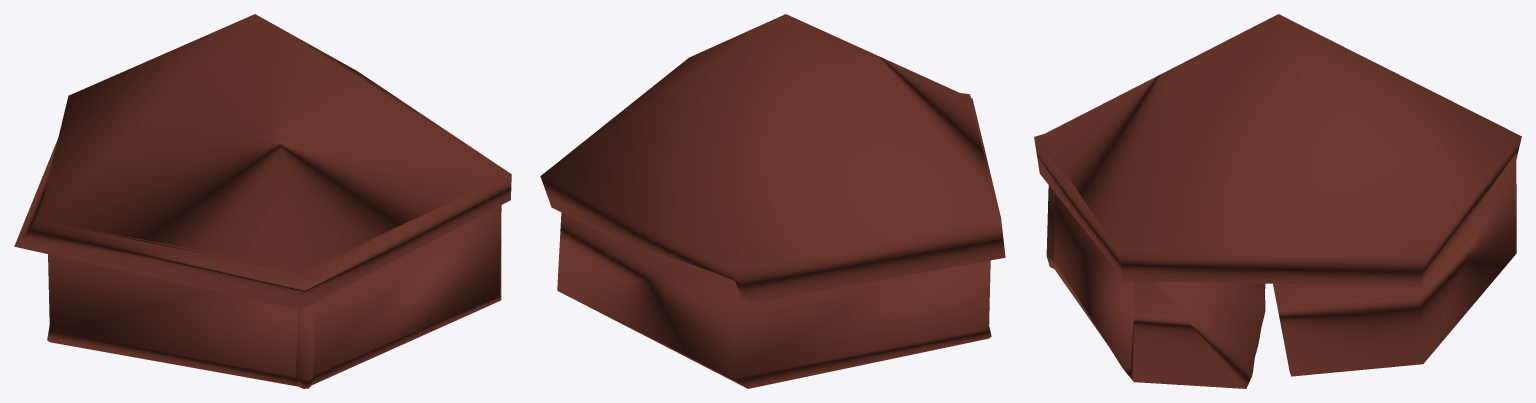
The model's file is Tent.fbx.
3 renders of one model, left to right at view 1: azimuth 30°, elevation 25°; view 2: azimuth 150°, elevation 25°; view 3: azimuth 270°, elevation 25°, orthographic. The views are drawn at different scales.
Visible parts, largest first — view 1: TentWalls; view 2: TentWalls; view 3: TentWalls.
Boxes of the visible parts, x1,y1,x2,y2 form: TentWalls: [14, 14, 511, 388]; TentWalls: [540, 14, 1005, 388]; TentWalls: [1034, 14, 1521, 388].
Size of the model in its own units: 384 by 377 by 240.
